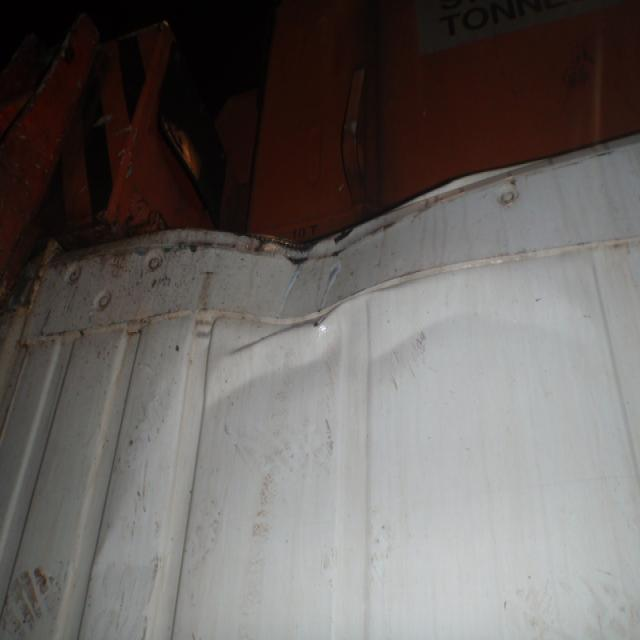dent: (174, 274, 379, 389)
